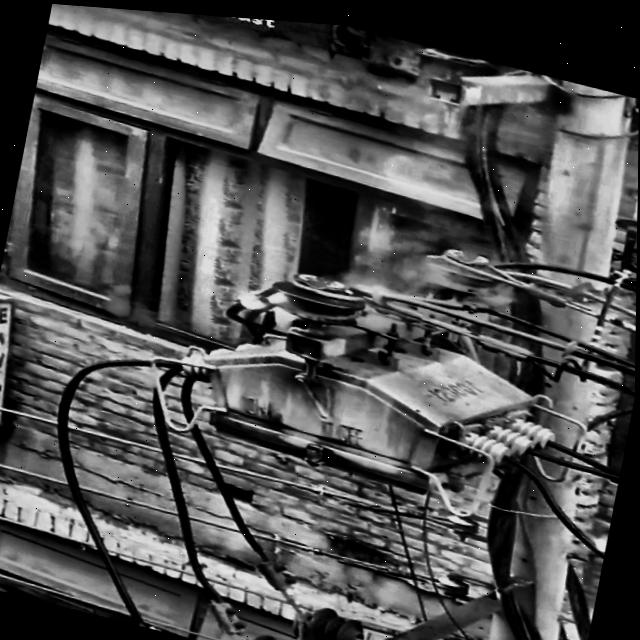Fire: (227, 269, 301, 319)
